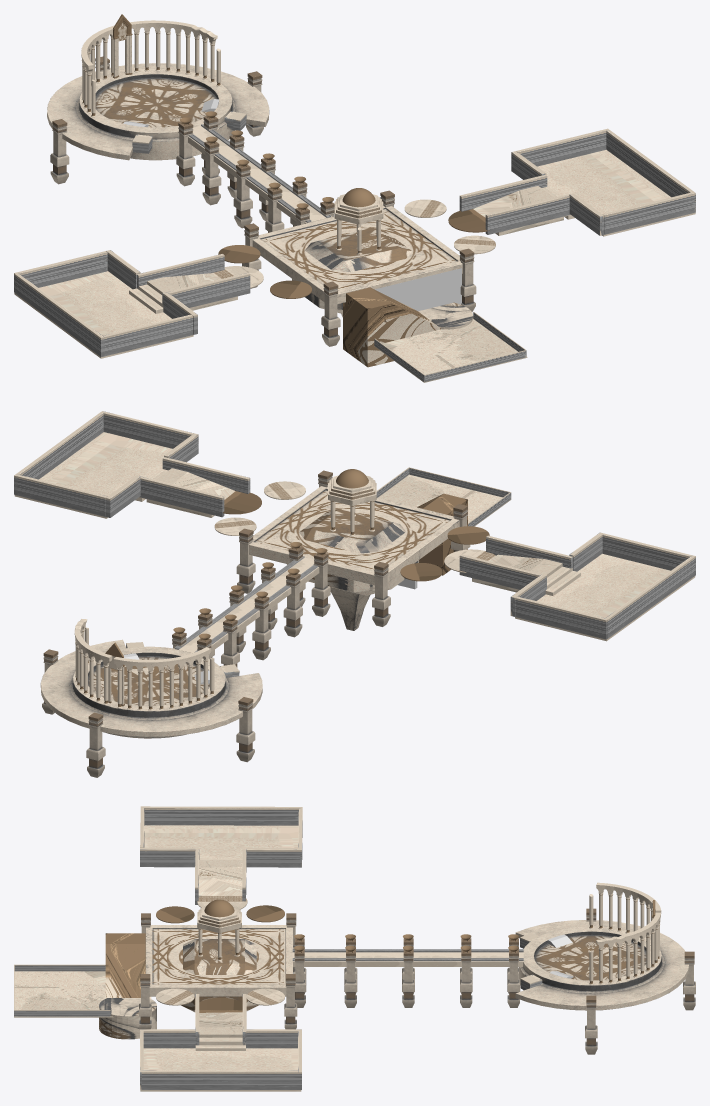
File: new_arena3.fbx
3 renders of one model, top to bottom at view 1: azimuth 30°, elevation 25°; view 2: azimuth 150°, elevation 25°; view 3: azimuth 270°, elevation 25°, orthographic. The views are drawn at different scales.
Parts seen in each view (by area): view 1: pCylinder5, pCube68, pCube47, 立方体.024, 立方体.035, 立方体.004, 立方体.003, 立方体, polySurface45, polySurface39, 立方体.010, 立方体.039 (+25 smaller); view 2: pCylinder5, pCube68, pCube47, 立方体.024, 立方体.035, 立方体, polySurface39, polySurface45, 立方体.003, 立方体.039, 立方体.029, 立方体.030 (+23 smaller); view 3: pCylinder5, pCube47, pCube68, 立方体.035, 立方体.024, 立方体.003, polySurface45, 立方体.028, 立方体.039, 立方体, 立方体.004, polySurface39 (+17 smaller).
Part boxes in pixels (<box>): pCylinder5: <box>47,63,269,160</box>; pCube68: <box>50,56,476,346</box>; pCube47: <box>252,206,462,317</box>; 立方体.024: <box>537,149,695,236</box>; 立方体.035: <box>14,271,193,358</box>; 立方体.004: <box>343,287,440,367</box>; 立方体.003: <box>374,318,527,382</box>; 立方体: <box>292,227,411,313</box>; polySurface45: <box>188,124,331,223</box>; polySurface39: <box>81,30,215,113</box>; 立方体.010: <box>375,268,461,363</box>; 立方体.039: <box>14,273,104,356</box>; pCylinder5: <box>40,639,262,738</box>; pCube68: <box>42,470,470,777</box>; pCube47: <box>249,486,459,630</box>; 立方体.024: <box>14,432,172,518</box>; 立方体.035: <box>515,553,695,641</box>; 立方体: <box>287,509,418,595</box>; polySurface39: <box>75,628,208,710</box>; polySurface45: <box>174,556,319,653</box>; 立方体.003: <box>378,474,511,526</box>; 立方体.039: <box>604,555,695,638</box>; 立方体.029: <box>515,596,607,639</box>; 立方体.030: <box>15,474,107,516</box>; pCylinder5: <box>515,920,688,1010</box>; pCube47: <box>145,925,292,996</box>; pCube68: <box>139,908,695,1054</box>; 立方体.035: <box>144,825,298,858</box>; 立方体.024: <box>140,1048,301,1091</box>; 立方体.003: <box>14,971,113,1017</box>; polySurface45: <box>292,949,523,966</box>; 立方体.028: <box>141,1070,301,1089</box>; 立方体.039: <box>140,806,300,825</box>; 立方体: <box>181,939,258,1012</box>; 立方体.004: <box>105,933,151,998</box>; polySurface39: <box>598,893,660,984</box>.
Size of the model in its own units: 1627 by 417 by 1764.
47 materials, 47 textured.
